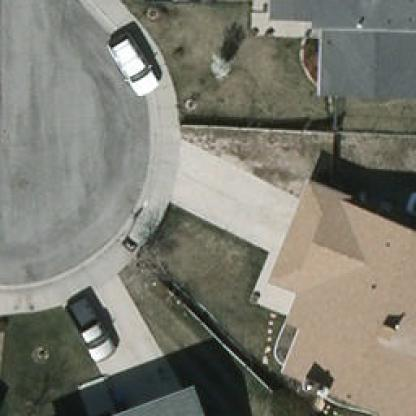car: (101, 27, 168, 104)
pickup: (62, 290, 119, 362)
